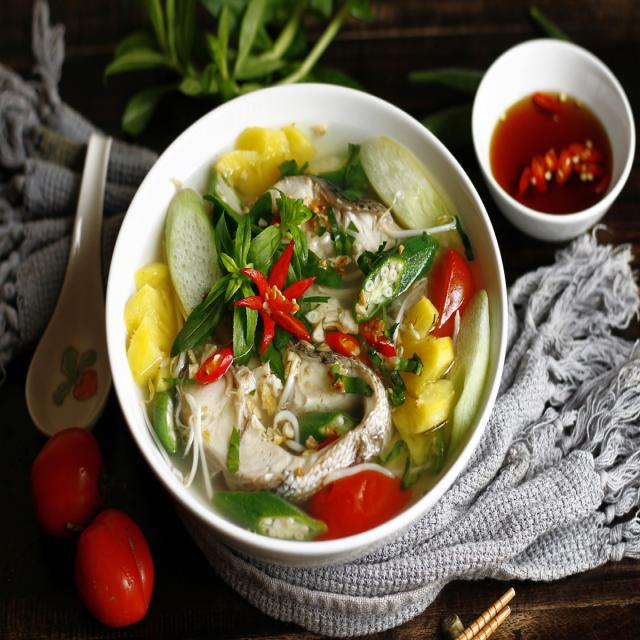canh chua: (124, 126, 489, 539)
nuoc mam: (491, 97, 612, 214)
